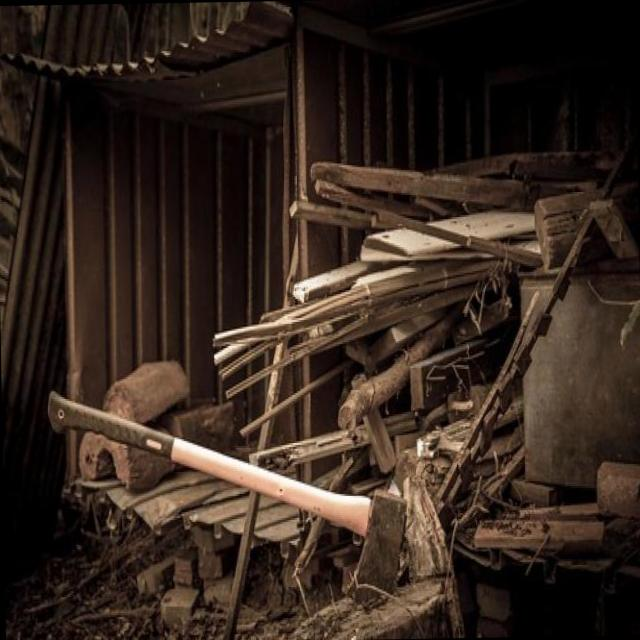Axe: (49, 392, 405, 589)
